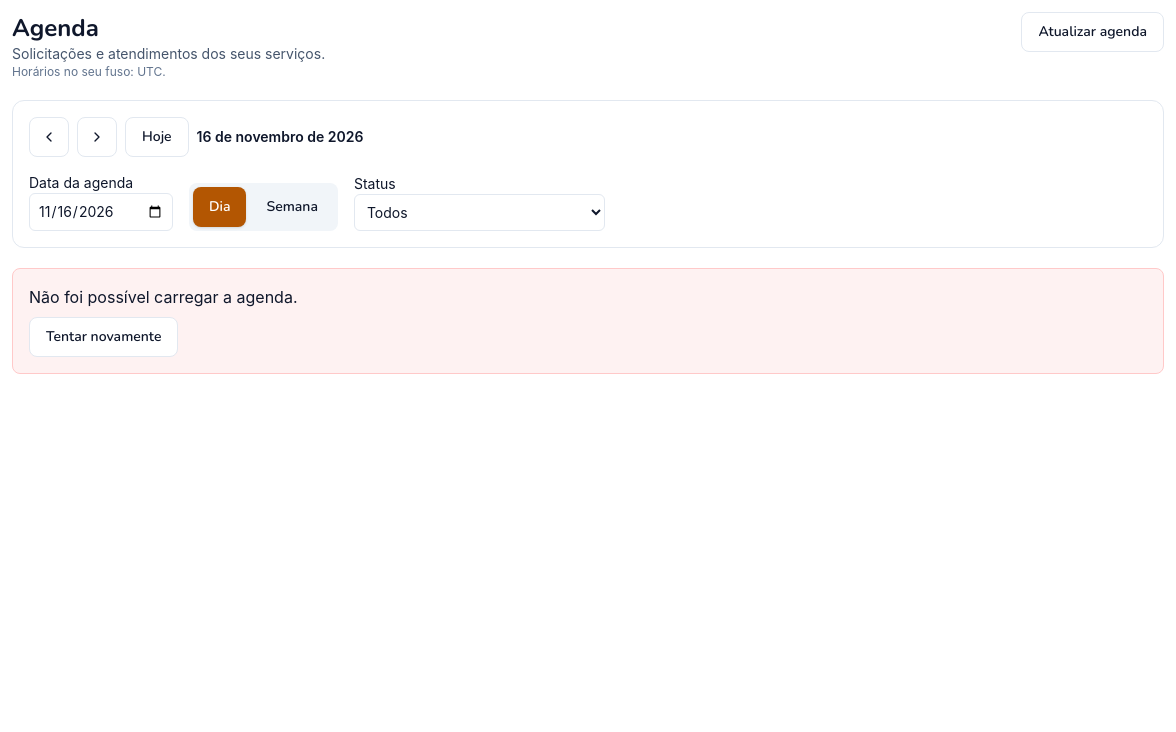
it: loading, erro e retry mantêm o período escolhido
Later steps or results of the test are not shown.
Expected: the text "Não foi possível carregar a agenda." is shown, [29,287,298,307]
Click the button "Tentar novamente".
click(104, 337)  # box [29,317,178,357]
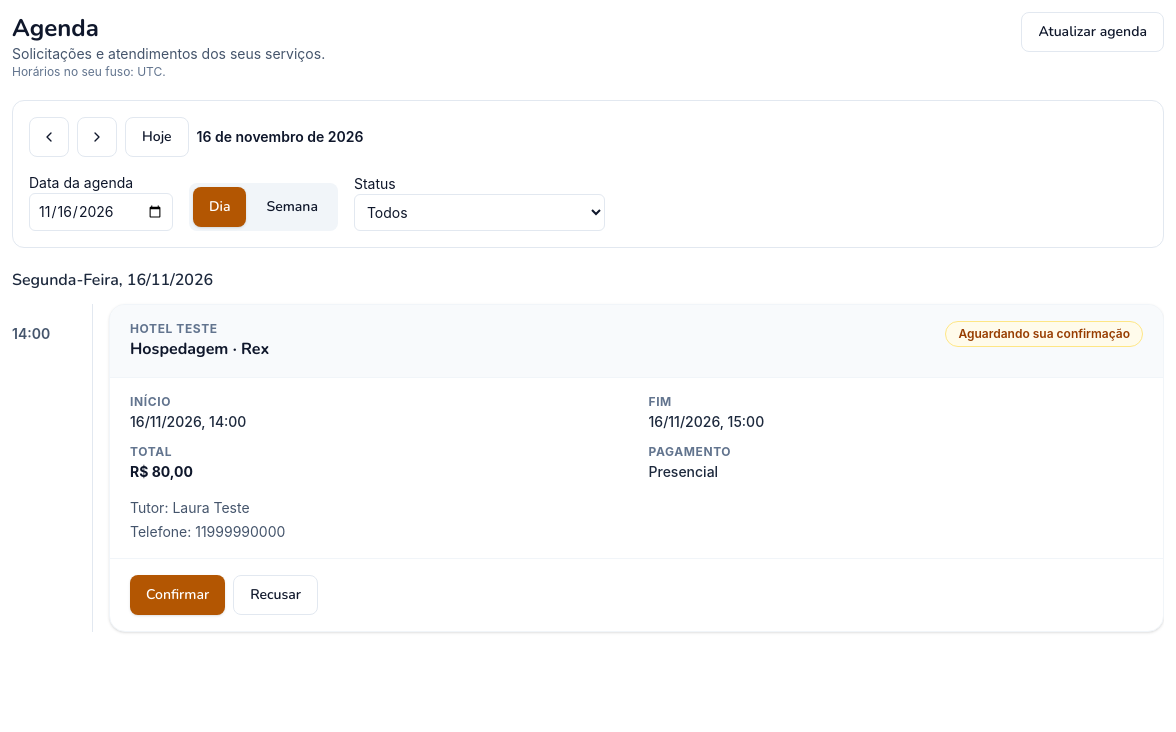
Expected: the text "Hotel Teste" is shown, [130,321,218,336]
